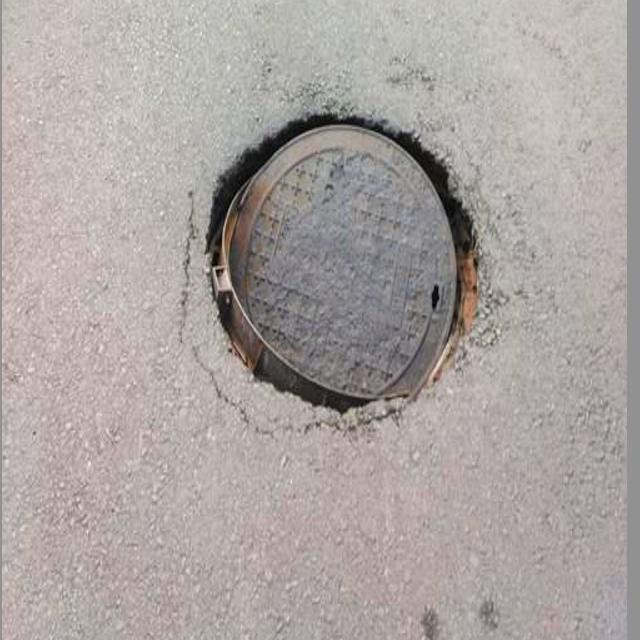circle: (160, 86, 510, 441)
